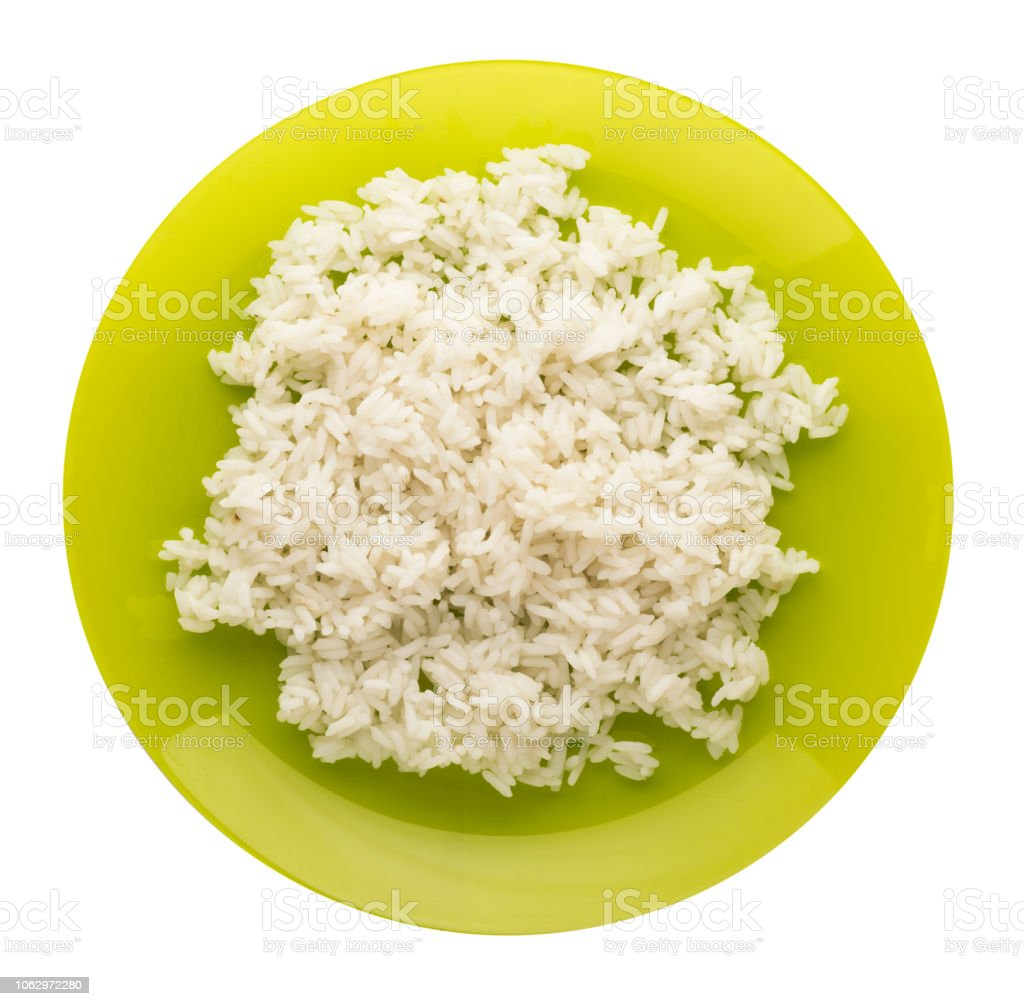Nasi Putih: (146, 207, 876, 874)
